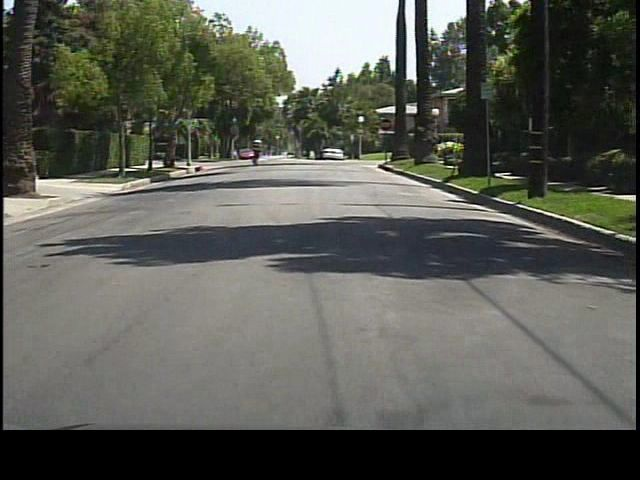person: (250, 137, 264, 168)
